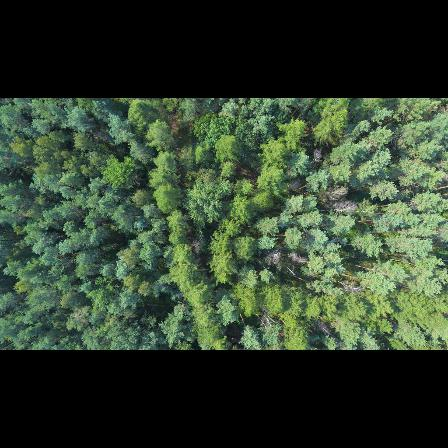Dead: (329, 201, 360, 218), (322, 184, 350, 200), (187, 235, 206, 256), (263, 249, 283, 268), (337, 281, 361, 294), (309, 147, 325, 164), (319, 318, 332, 337)
